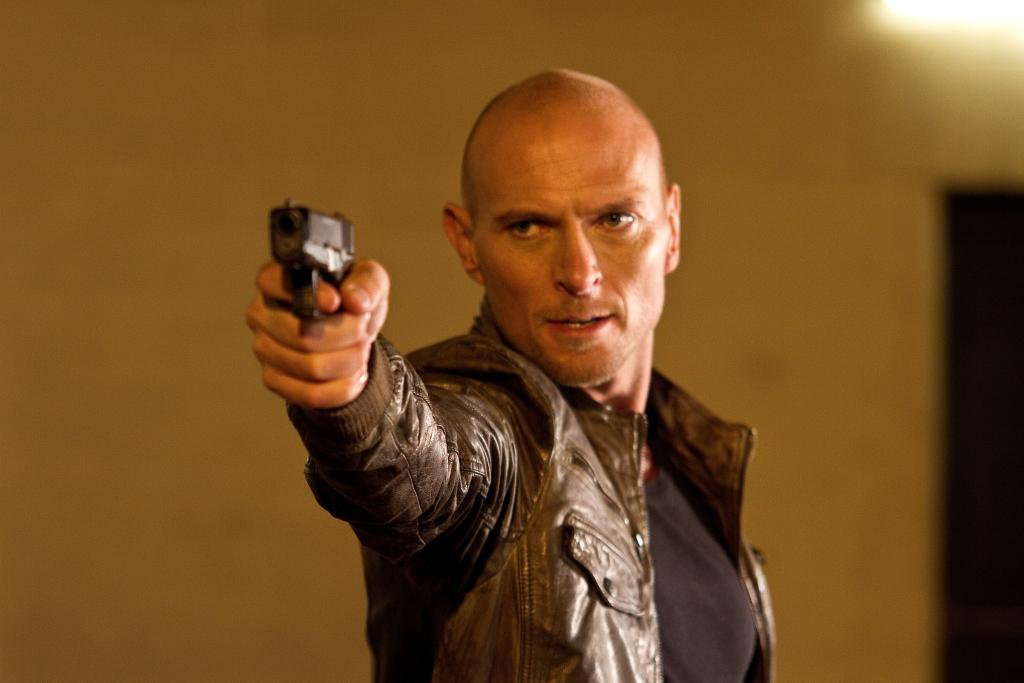face: (476, 116, 664, 388)
